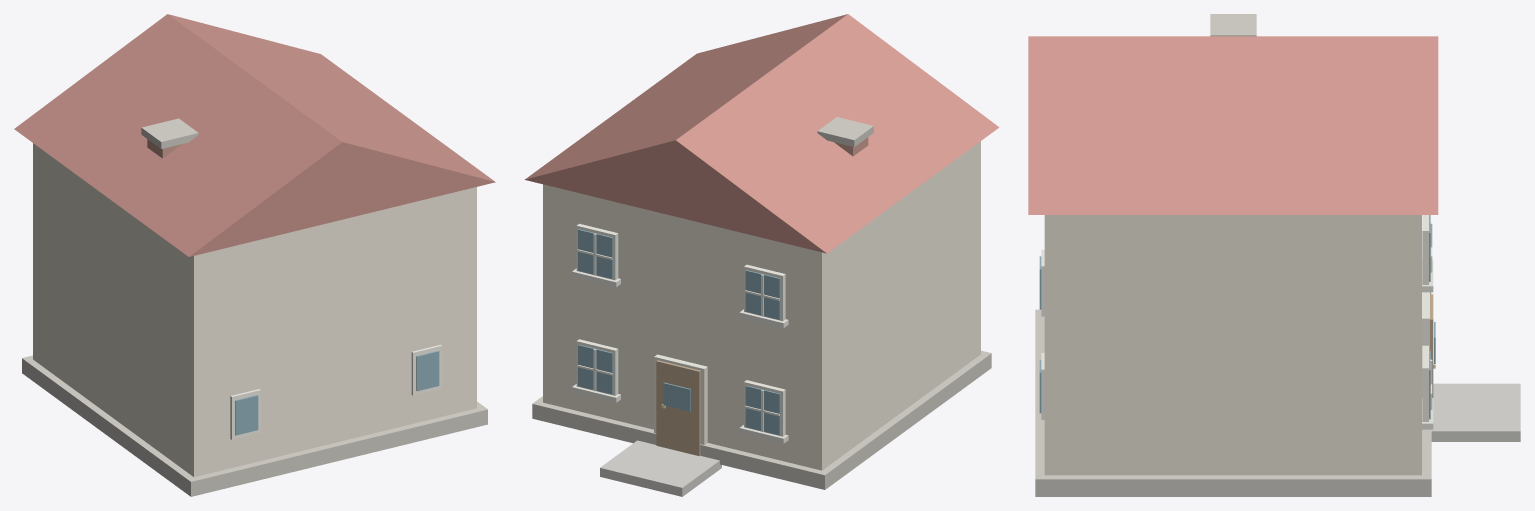
File: House_TwoStory.glb
The picture shows the model from 3 angles, left to right: view 1: azimuth 30°, elevation 25°; view 2: azimuth 150°, elevation 25°; view 3: azimuth 270°, elevation 25°; orthographic projection. The views are drawn at different scales.
Visible parts, largest first — view 1: 001_exterior_001, 002_gable_roof_002, 000_foundation_000, 033_chimney_cap_033, 029_rear_glass_029, 031_rear_glass_031, 028_rear_window_028, 030_rear_window_030; view 2: 001_exterior_001, 002_gable_roof_002, 000_foundation_000, 027_stoop_027, 024_door_024, 004_window_glass_004, 014_window_glass_014, 009_window_glass_009, 019_window_glass_019, 033_chimney_cap_033, 023_door_trim_023, 026_door_glazing_026 (+4 smaller); view 3: 001_exterior_001, 002_gable_roof_002, 000_foundation_000, 027_stoop_027, 033_chimney_cap_033, 008_window_trim_008.
Part boxes in pixels (x1,y1,x2,y2): 001_exterior_001: [33, 143, 476, 477]; 002_gable_roof_002: [14, 14, 495, 256]; 000_foundation_000: [22, 355, 487, 496]; 033_chimney_cap_033: [141, 118, 198, 148]; 029_rear_glass_029: [235, 395, 258, 435]; 031_rear_glass_031: [416, 351, 439, 391]; 028_rear_window_028: [230, 389, 260, 439]; 030_rear_window_030: [411, 344, 441, 395]; 001_exterior_001: [543, 141, 980, 470]; 002_gable_roof_002: [524, 14, 999, 253]; 000_foundation_000: [532, 350, 991, 489]; 027_stoop_027: [600, 440, 721, 496]; 024_door_024: [656, 360, 700, 456]; 004_window_glass_004: [745, 385, 780, 435]; 014_window_glass_014: [745, 270, 780, 319]; 009_window_glass_009: [578, 344, 612, 394]; 019_window_glass_019: [578, 229, 612, 278]; 033_chimney_cap_033: [817, 117, 873, 147]; 023_door_trim_023: [654, 354, 707, 444]; 026_door_glazing_026: [663, 382, 690, 411]; 001_exterior_001: [1044, 215, 1421, 475]; 002_gable_roof_002: [1028, 36, 1438, 214]; 000_foundation_000: [1035, 309, 1431, 496]; 027_stoop_027: [1431, 383, 1520, 441]; 033_chimney_cap_033: [1210, 14, 1256, 36]; 008_window_trim_008: [1422, 345, 1428, 421].
Size of the model in its own units: 7.7 by 7.81 by 9.12.
